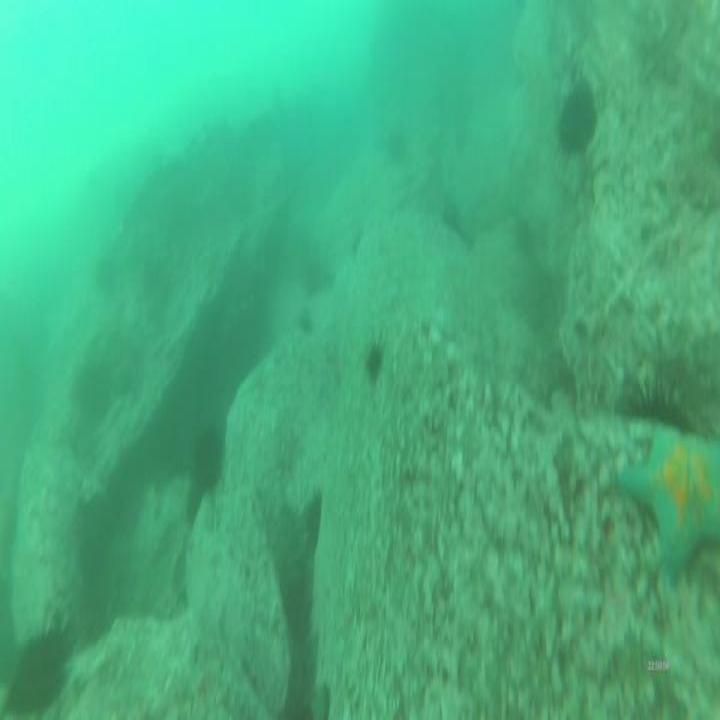echinus: (3, 620, 70, 720), (617, 366, 698, 438), (552, 78, 602, 167), (188, 423, 227, 493), (281, 576, 316, 647), (77, 356, 114, 423), (299, 489, 326, 551), (91, 249, 120, 299), (301, 252, 325, 298), (385, 124, 409, 170), (362, 338, 384, 388), (295, 310, 318, 340)
starfish: (620, 414, 720, 587)
